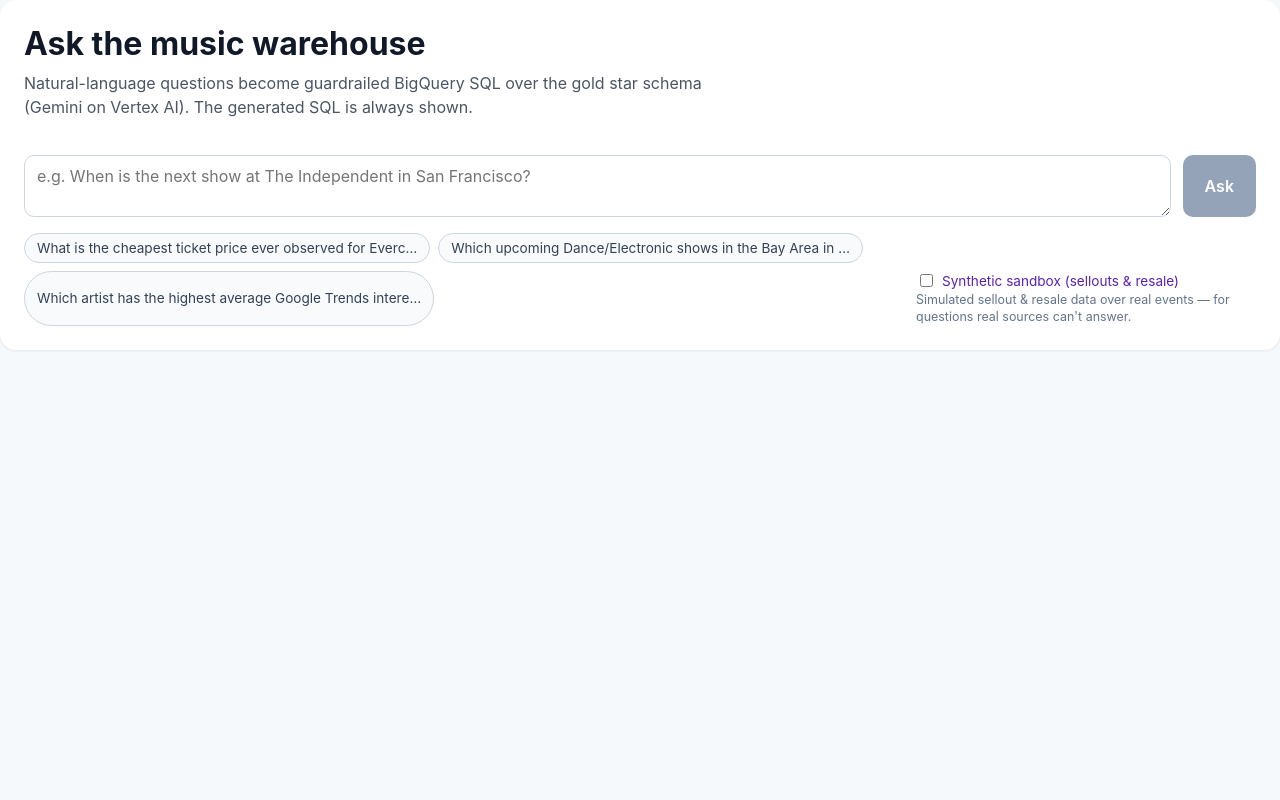
Test: AskPanel › threads prior exchanges and sends the last completed ones as history
Type "How many events?" into the text box named "Question" at (597, 186), box 24,155 -> 1171,217
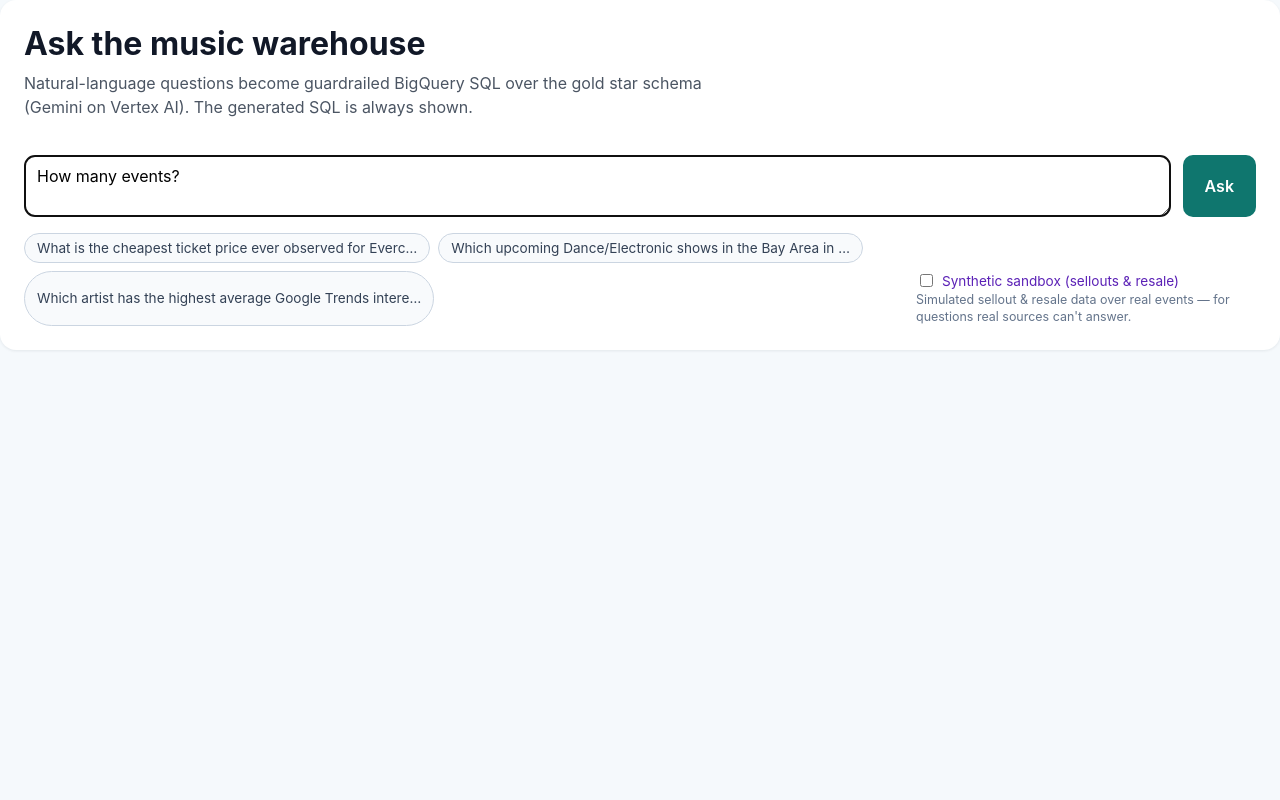
Click the button "Ask" at (1219, 186), box 1183,155 -> 1256,217
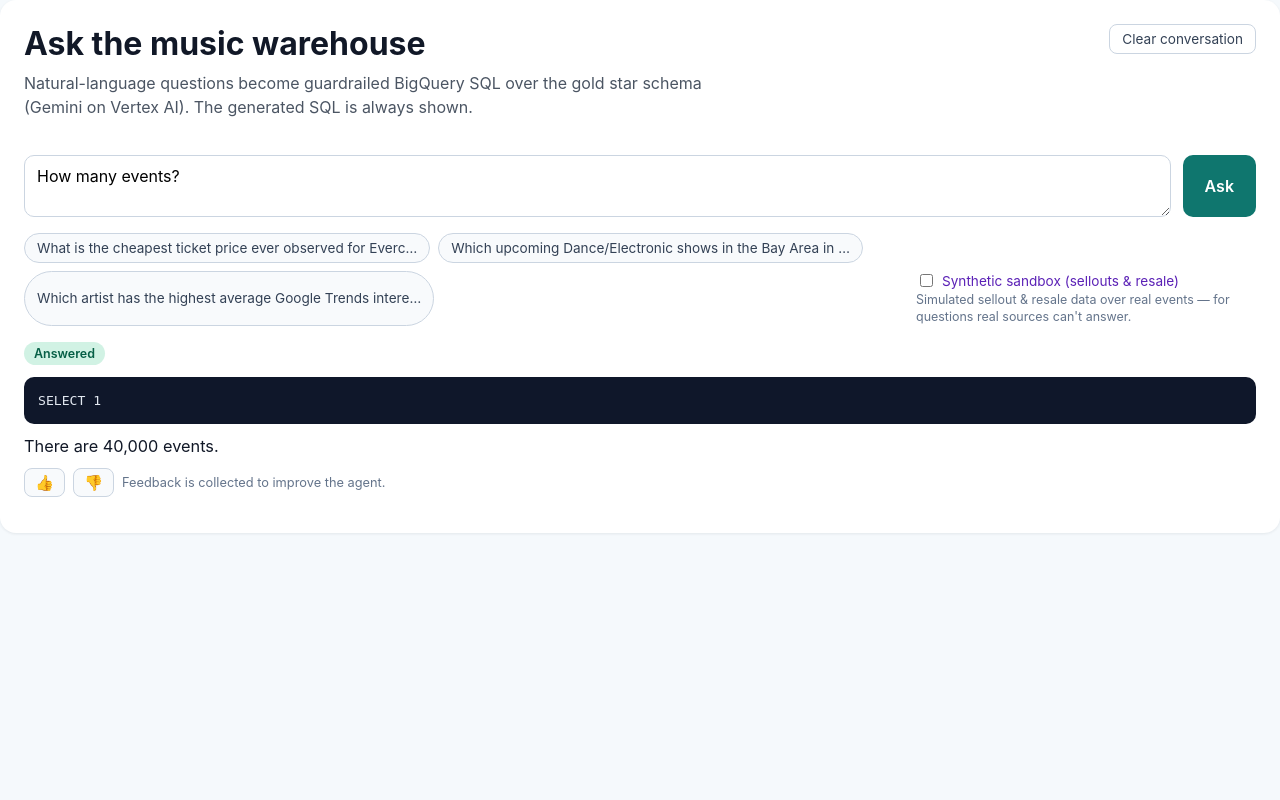
Now the text "There are 40,000 events." is shown, box 24,436 -> 219,456
Replace the text in the text box named "Question" with "How many venues?" at (597, 186), box 24,155 -> 1171,217
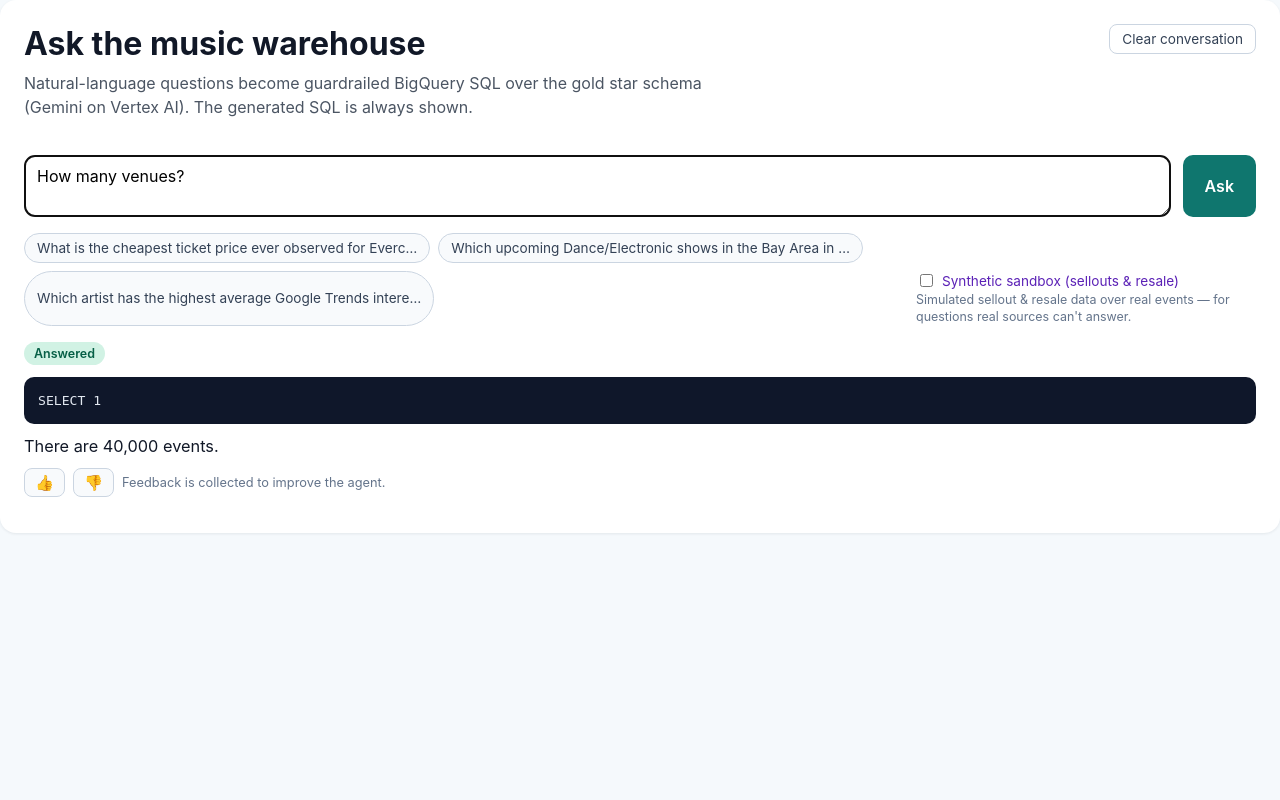
Click the button "Ask" at (1219, 186), box 1183,155 -> 1256,217
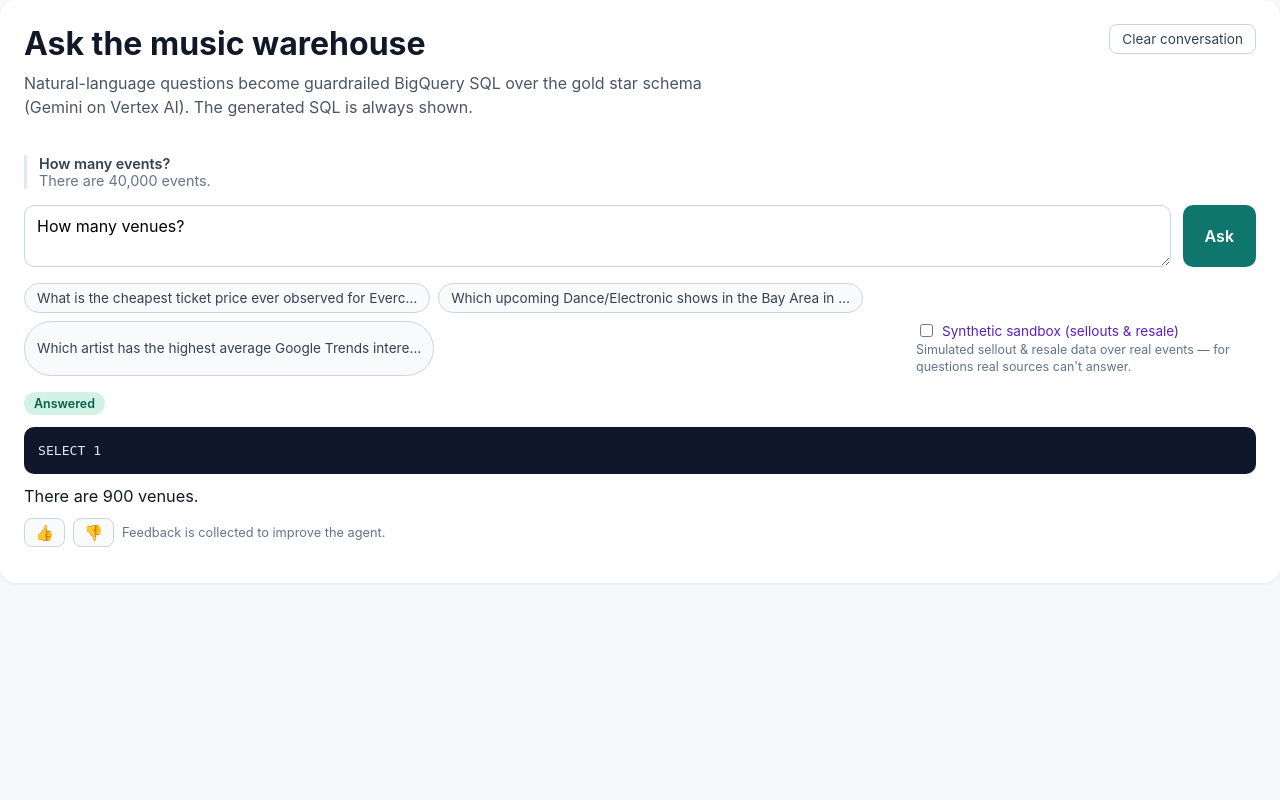
Now the text "There are 900 venues." is shown, box 24,486 -> 198,506
Now the element named "Earlier exchanges" shows "How many events?", box 39,155 -> 170,172
Now the element named "Earlier exchanges" shows "There are 40,000 events.", box 39,172 -> 211,189
Click the button "Clear conversation" at (1183, 39), box 1109,24 -> 1256,54
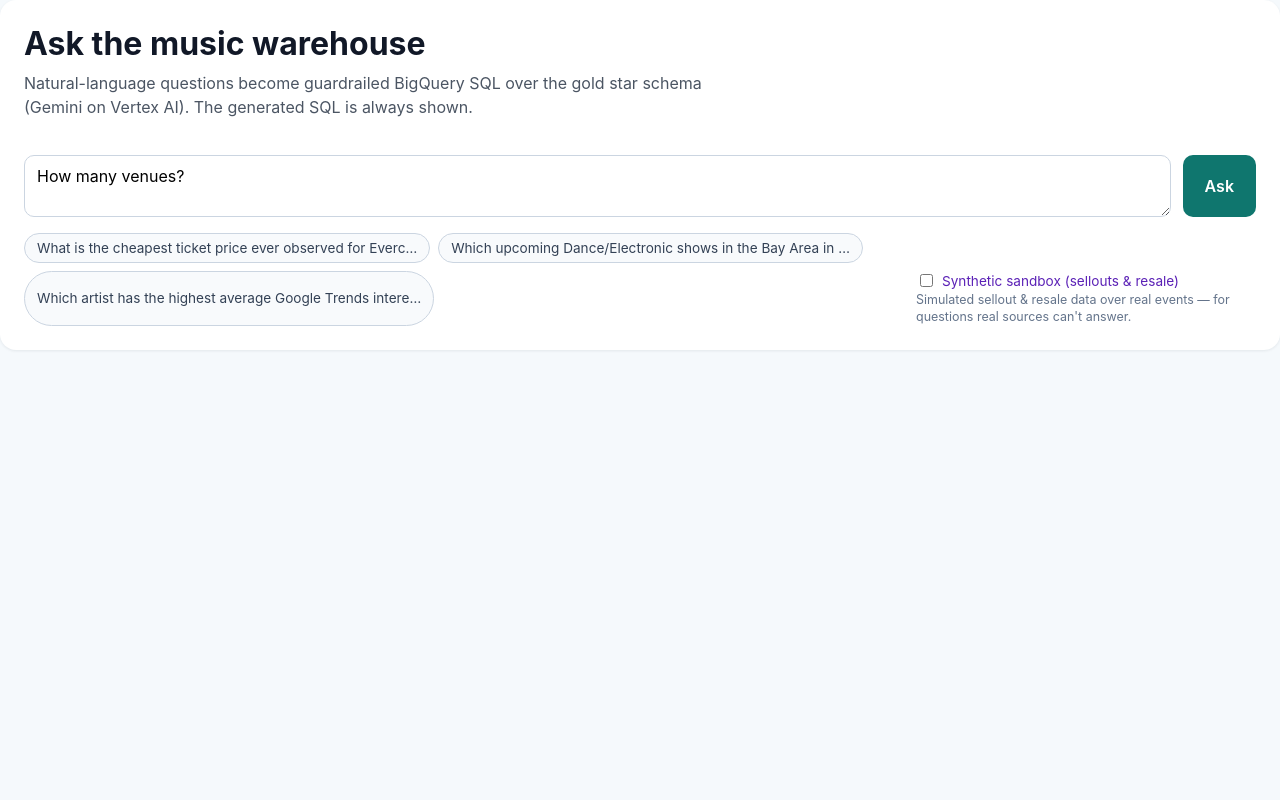
Now the text "There are 900 venues." is gone
